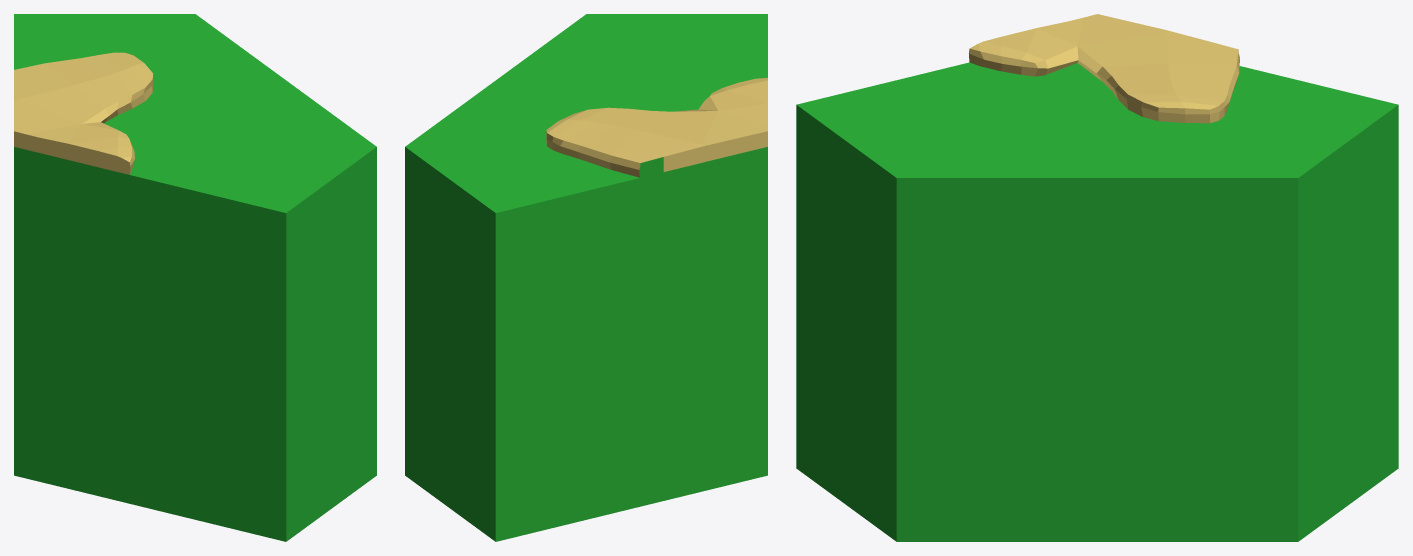
The model's file is module-corner_land_path_end_003.glb.
3 renders of one model, left to right at view 1: azimuth 30°, elevation 25°; view 2: azimuth 150°, elevation 25°; view 3: azimuth 270°, elevation 25°, orthographic. The views are drawn at different scales.
Parts seen in each view (by area): view 1: module-corner_land_path_end_003; view 2: module-corner_land_path_end_003; view 3: module-corner_land_path_end_003.
Boxes of the visible parts, <box> form: module-corner_land_path_end_003: <box>14,14,376,541</box>; module-corner_land_path_end_003: <box>405,14,767,541</box>; module-corner_land_path_end_003: <box>796,14,1398,541</box>.
Bounding box in the file's own units: 0.433 × 0.5248 × 0.75.
